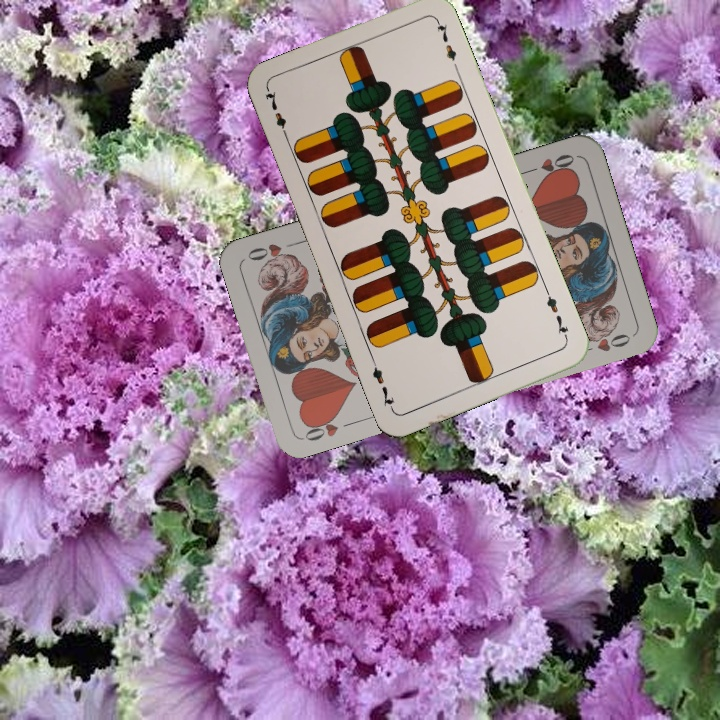E7: (541, 286, 571, 343), (261, 86, 291, 143)
HO: (520, 150, 577, 181), (300, 410, 341, 444)
